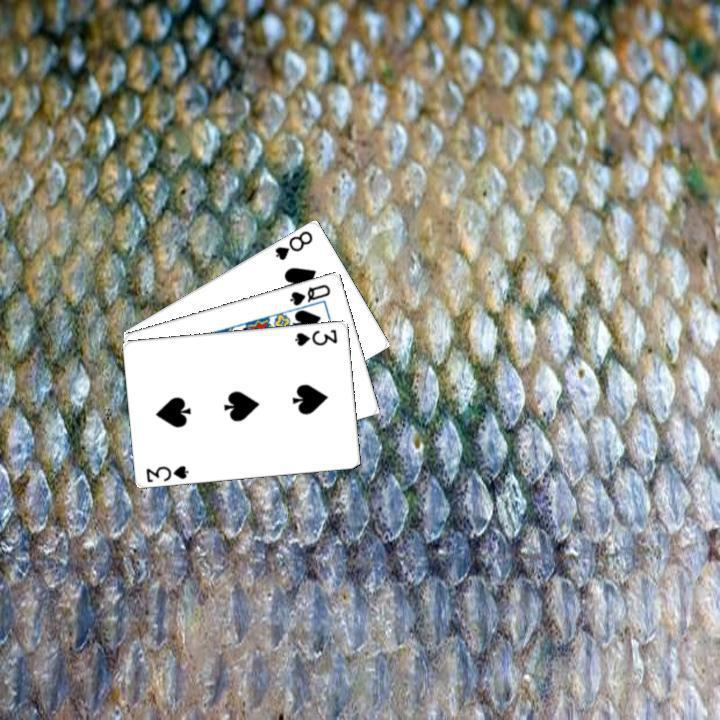3: (291, 324, 340, 347), (142, 461, 191, 484)
8: (270, 226, 315, 262)
Q: (285, 279, 333, 307)
